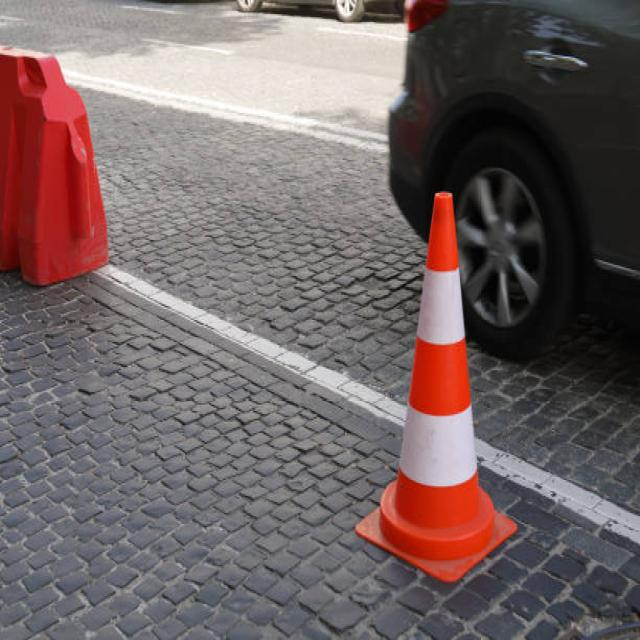Traffic Cone: (346, 169, 534, 601)
